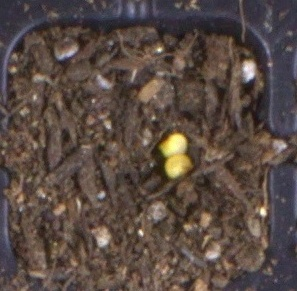chilli seed: (164, 154, 193, 180), (158, 133, 188, 158)
